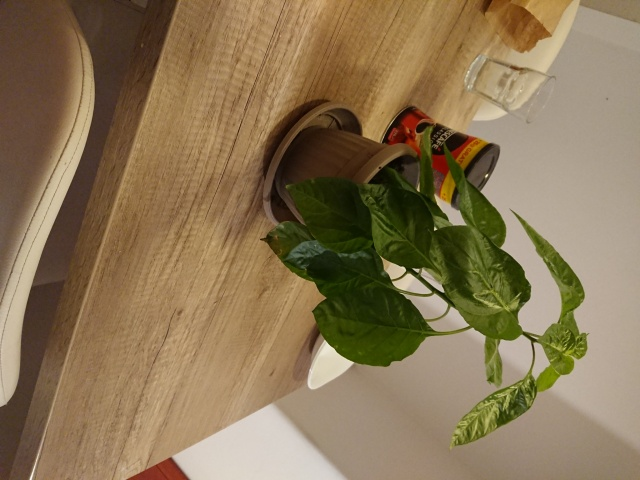Nescafe Classic 225g: (374, 102, 504, 213)
